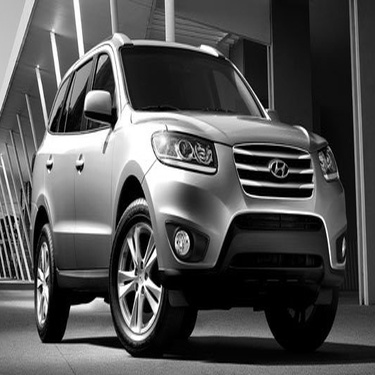car: (13, 29, 356, 365)
